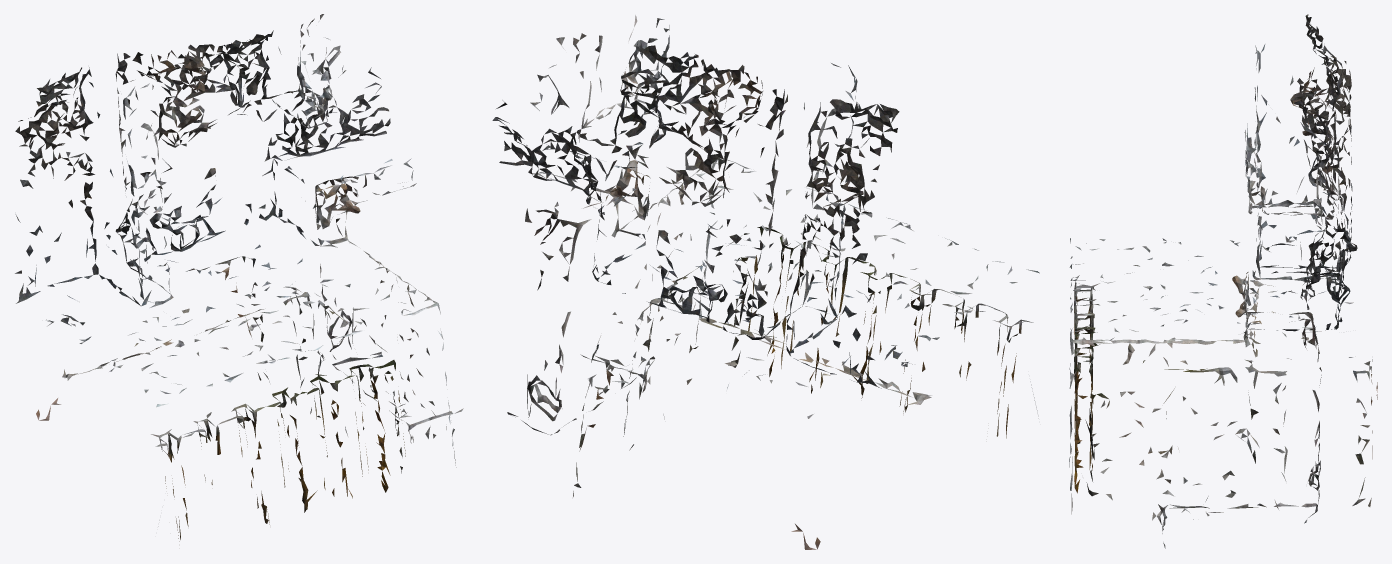
The picture shows the model from 3 angles, left to right: view 1: azimuth 30°, elevation 25°; view 2: azimuth 150°, elevation 25°; view 3: azimuth 270°, elevation 25°; orthographic projection. The views are drawn at different scales.
Bounding box in the file's own units: 6.74 × 7.03 × 5.14.
Materials: 1 (1 with a texture image).
